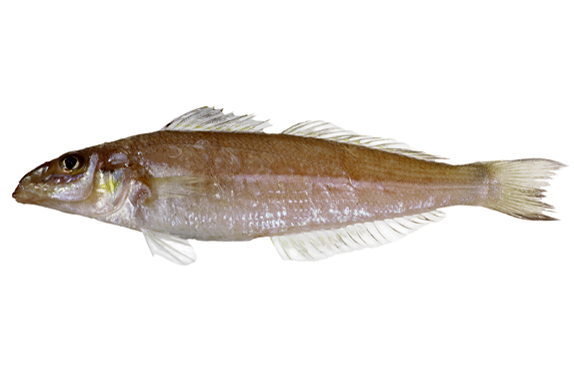kiss: (10, 100, 566, 272)
